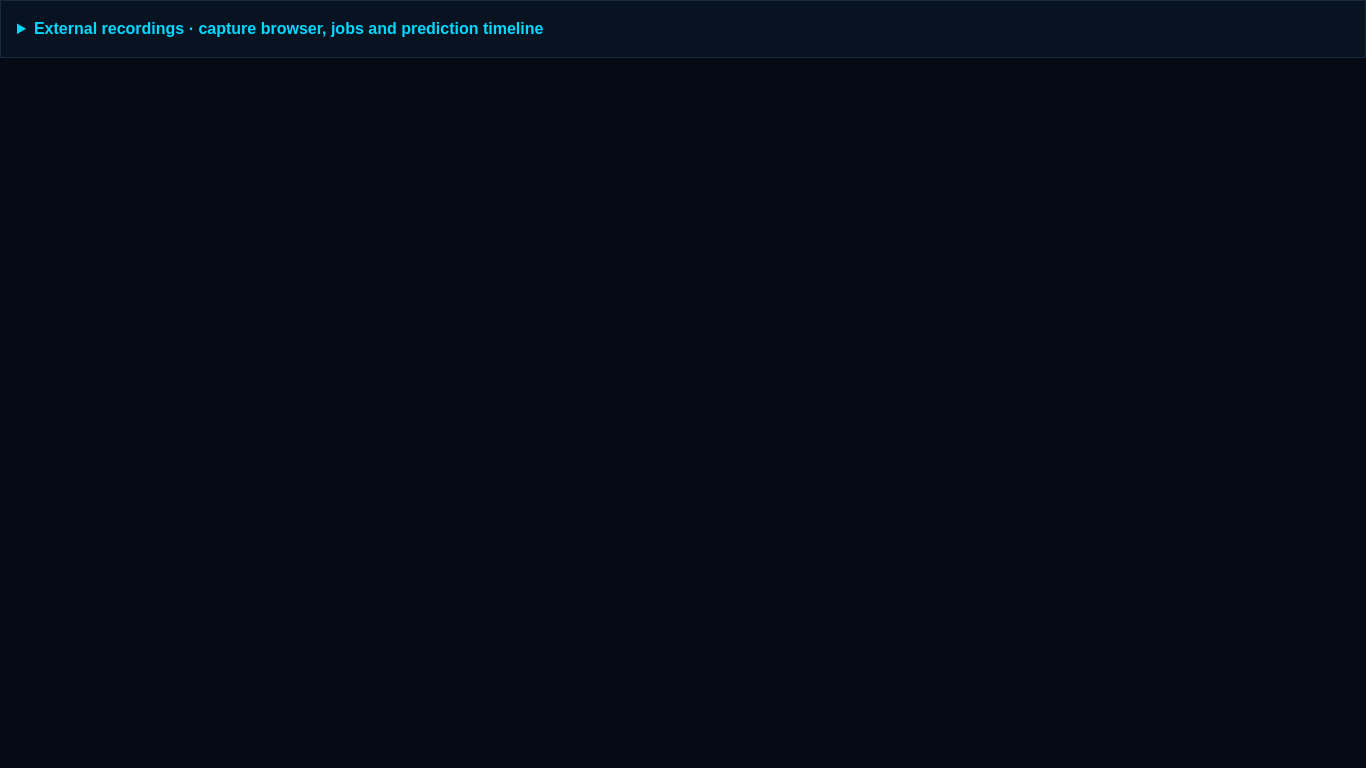
Test: Phase2 operational controls › shows persistent job state and sends cancellation to its actual ID
Later steps or results of the test are not shown.
What coordinates should you click on to do the following:
click the heading "External recordings ·"
I would click on:
 (289, 28)
Its box is [34,20,543,37].
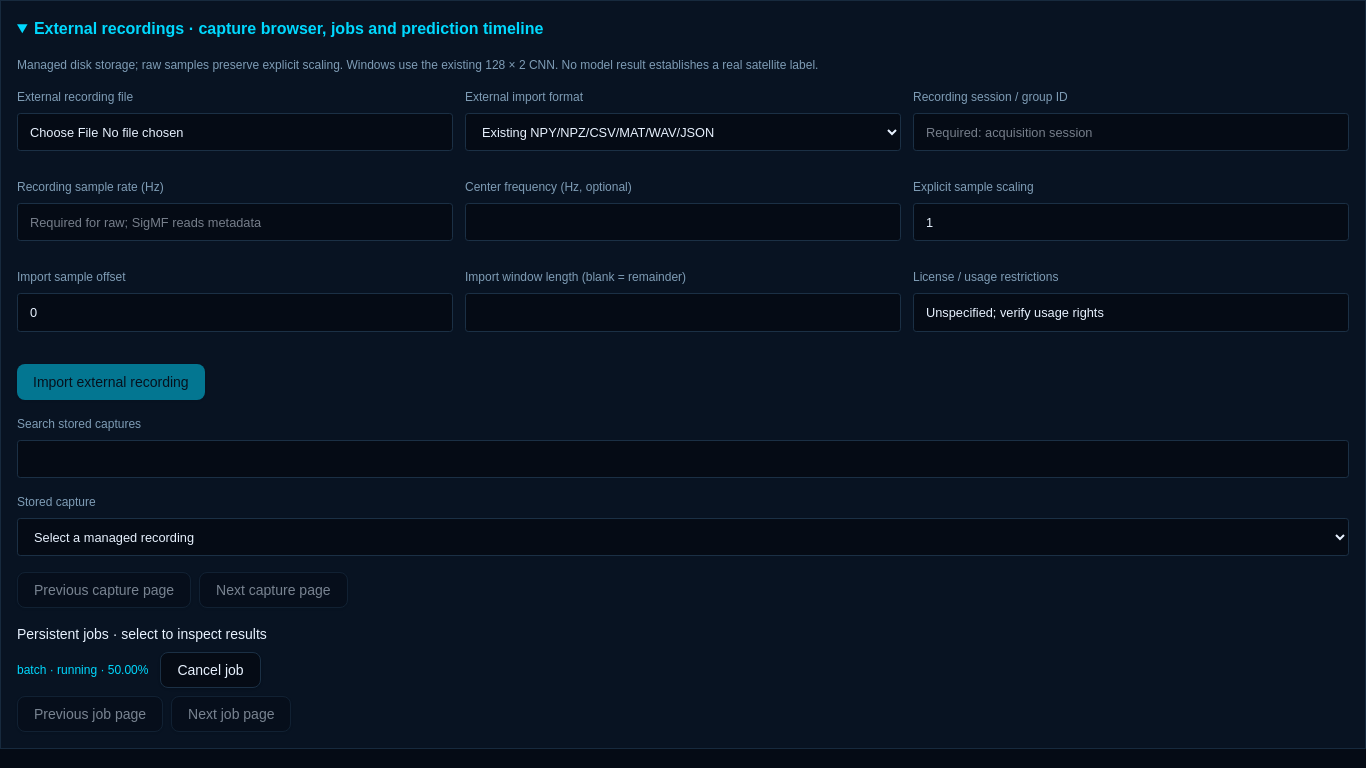
Expected: the button "batch · running · 50.00%" is shown, [17,662,148,678]
